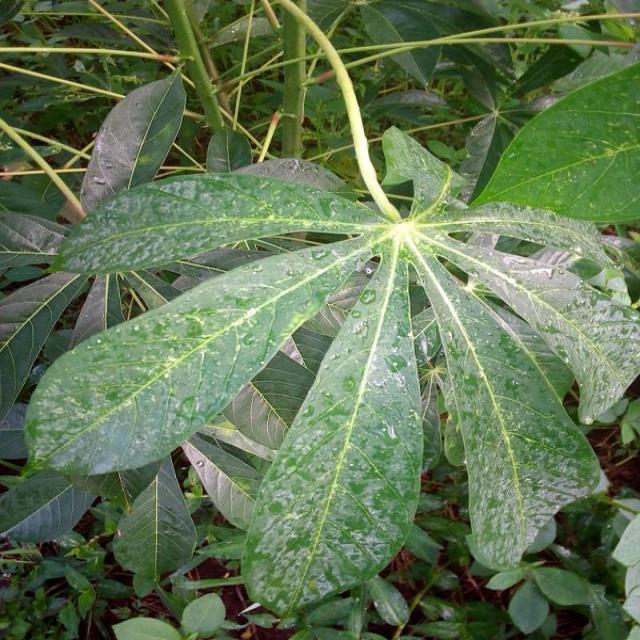cassava leaf: (23, 120, 639, 616), (23, 231, 378, 478), (240, 244, 426, 620)
